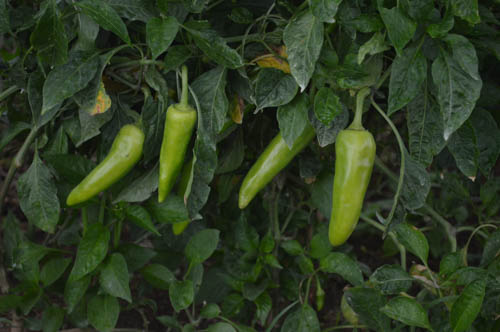ChiliPepper: (238, 117, 317, 216), (63, 125, 146, 205), (324, 130, 375, 249), (155, 103, 193, 207)
